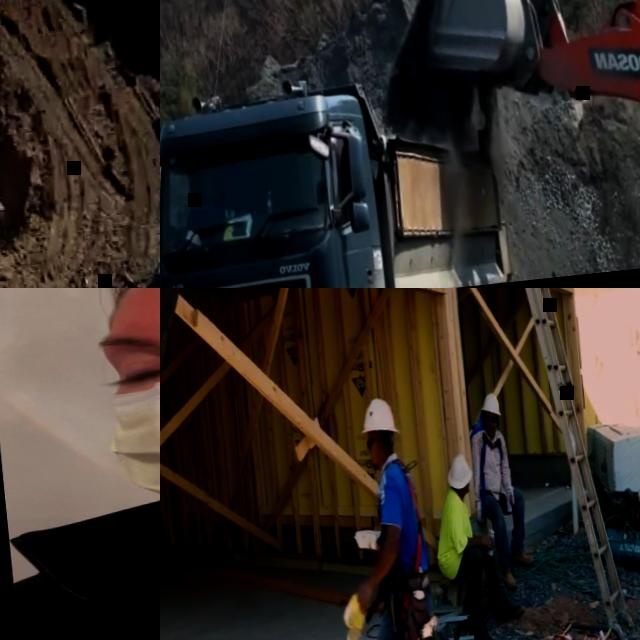Hardhat: (356, 396, 400, 440), (445, 453, 475, 491), (479, 391, 501, 417)
NO-Hardhat: (200, 167, 218, 185)
NO-Mask: (370, 447, 383, 468), (485, 424, 498, 436), (464, 485, 470, 493)
NO-Safety Vest: (10, 495, 160, 640), (376, 458, 429, 579), (474, 429, 507, 495), (437, 496, 473, 556)
Person: (0, 288, 160, 640), (336, 394, 443, 640), (426, 448, 531, 640), (463, 389, 537, 592), (198, 166, 228, 212)
machinery: (160, 49, 511, 288), (398, 0, 640, 288), (87, 184, 160, 288)
